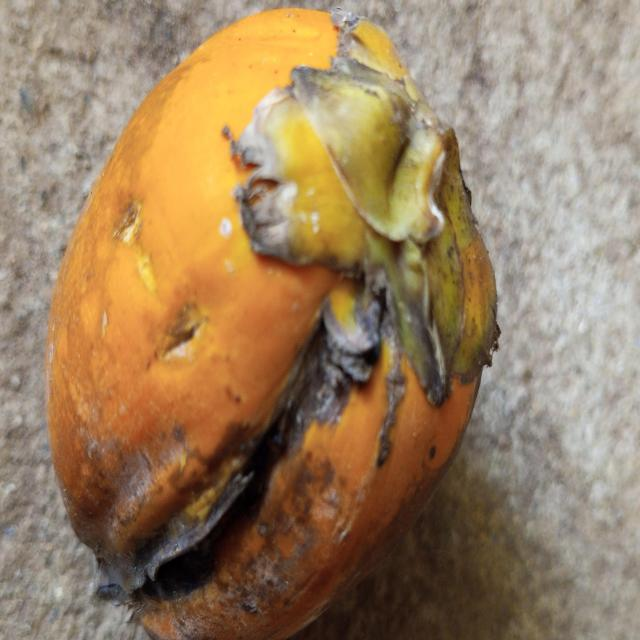damaged: (47, 9, 499, 638)
